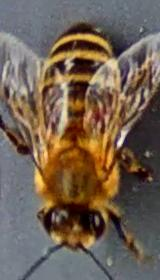varroa_mite: (82, 99, 112, 132)
